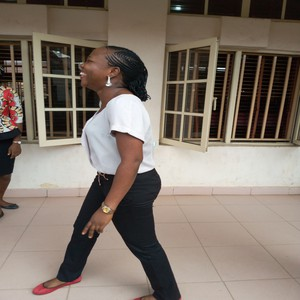Fulokoja_female_student: (78, 47, 163, 280)
